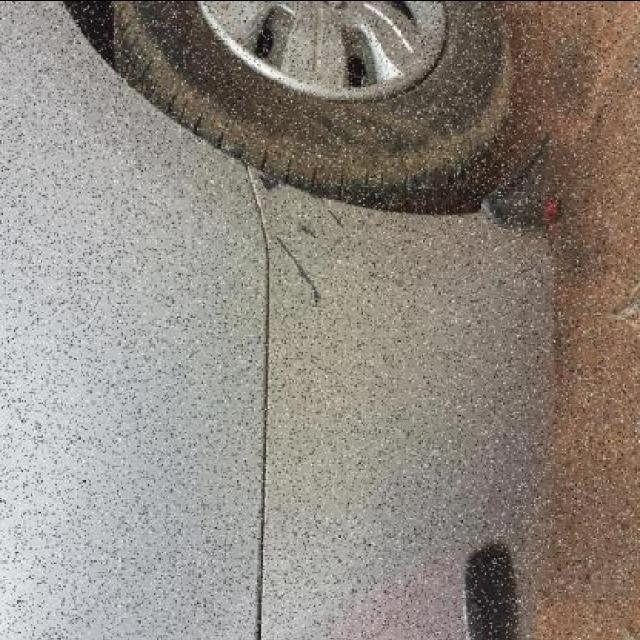rear-bumper-dent: (217, 103, 571, 640)
